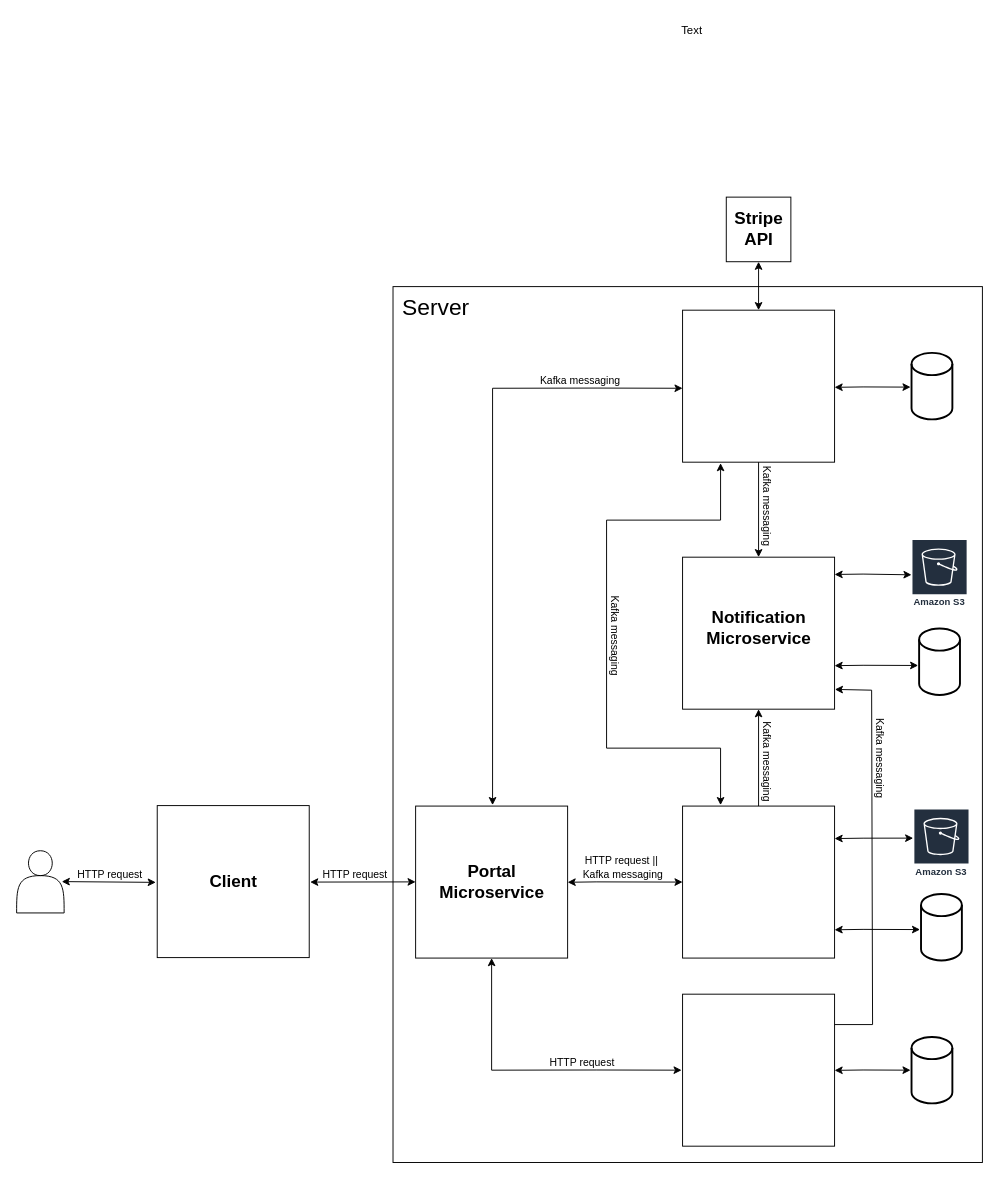
This 999x1179 diagram has some shape labels left out. The centre of each missing label's shape, as x and y in pixels:
Authentication Microservice: pixel 758 1069
Budget Microservice: pixel 758 881
Payment Microservice: pixel 758 385
